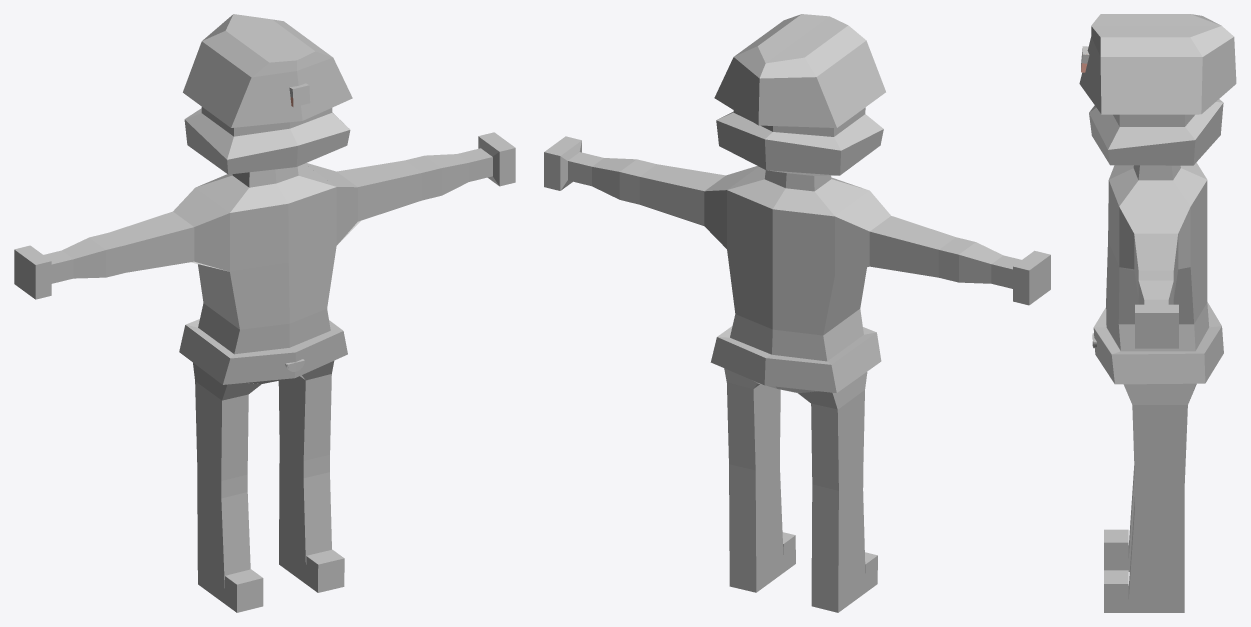
File: Chara1.fbx
The picture shows the model from 3 angles, left to right: view 1: azimuth 30°, elevation 25°; view 2: azimuth 150°, elevation 25°; view 3: azimuth 270°, elevation 25°; orthographic projection. The views are drawn at different scales.
Parts seen in each view (by area): view 1: Chara 1; view 2: Chara 1; view 3: Chara 1.
Boxes of the visible parts, x1,y1,x2,y2 form: Chara 1: [14, 14, 515, 612]; Chara 1: [544, 14, 1050, 612]; Chara 1: [1079, 14, 1236, 612].
Size of the model in its own units: 141 by 153 by 38.91.
